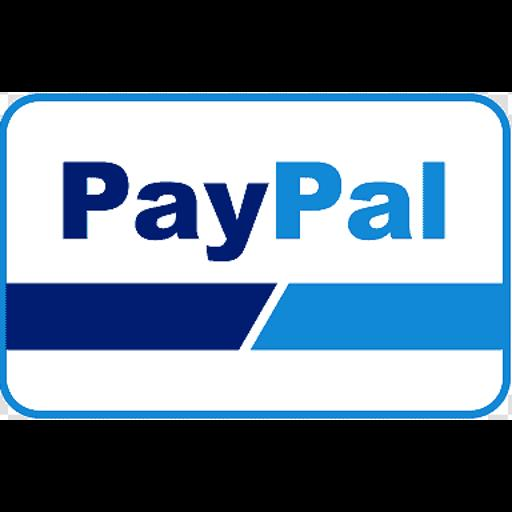PayPal: (0, 92, 512, 420)
